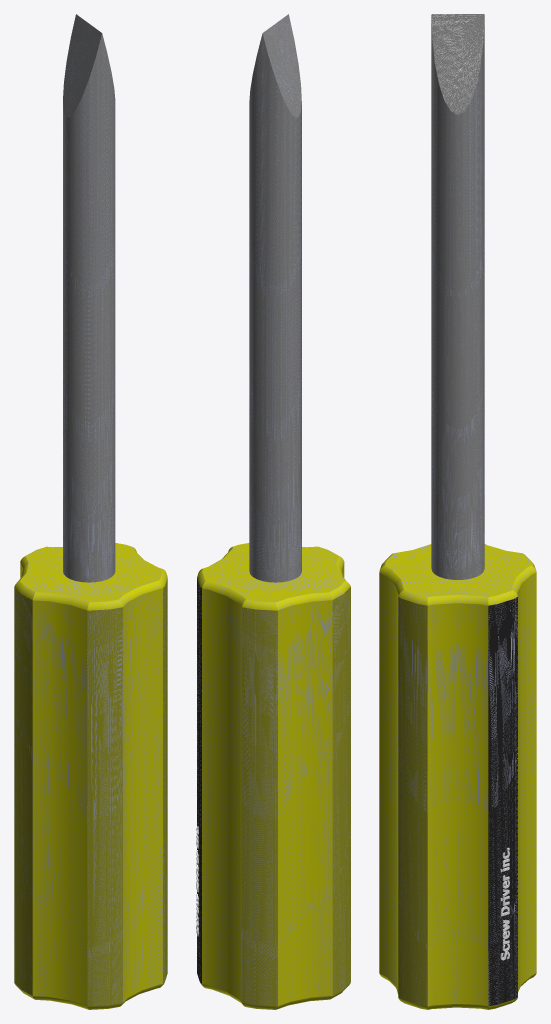
File: screwdriver.dae
3 views of the same model, side by side, from view 1: azimuth 30°, elevation 25°; view 2: azimuth 150°, elevation 25°; view 3: azimuth 270°, elevation 25° (orthographic).
Visible parts, largest first — view 1: SketchUp (×6); view 2: SketchUp (×6); view 3: SketchUp (×5).
Part boxes in pixels (bbox=[...]): SketchUp (×6): bbox=[14, 14, 167, 1009]; SketchUp (×6): bbox=[197, 14, 350, 1009]; SketchUp (×5): bbox=[379, 14, 536, 1009].
Bounding box in the file's own units: 136 × 140 × 951.
